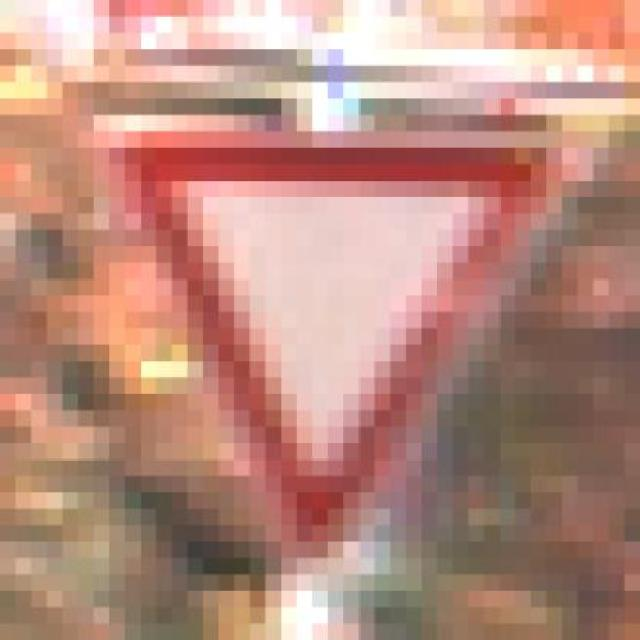Give Way: (100, 93, 569, 619)
